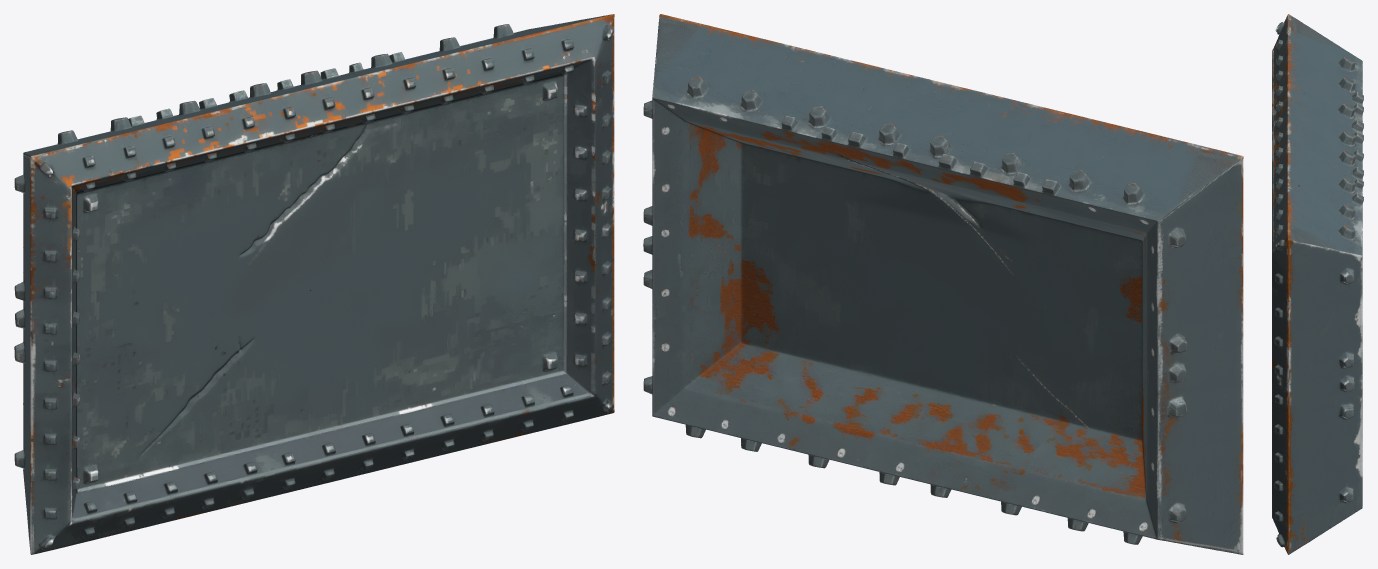
File: Meshy_AI_Riveted_Steel_Hatch_0406005315_texture.glb
3 views of the same model, side by side, from view 1: azimuth 30°, elevation 25°; view 2: azimuth 150°, elevation 25°; view 3: azimuth 270°, elevation 25° (orthographic). The views are drawn at different scales.
Bounding box in the file's own units: 1.9 × 1.24 × 0.3272.
1 material, 1 textured.
